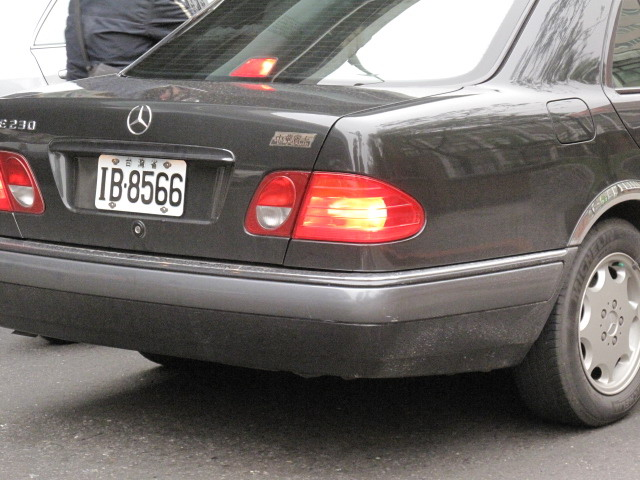plate: (93, 150, 191, 221)
